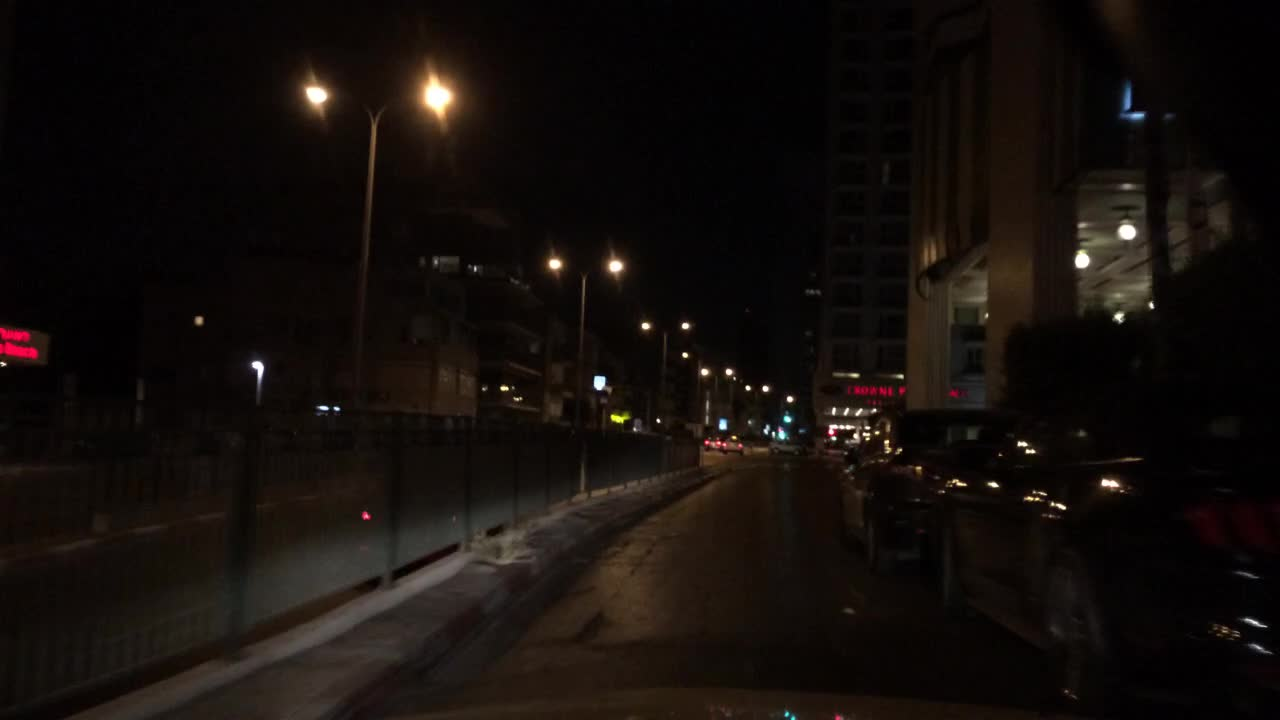car: (926, 379, 1280, 719), (831, 405, 999, 571), (822, 439, 854, 458), (768, 441, 799, 456), (725, 433, 745, 455), (702, 430, 724, 448)
traffic light: (782, 405, 791, 422)
